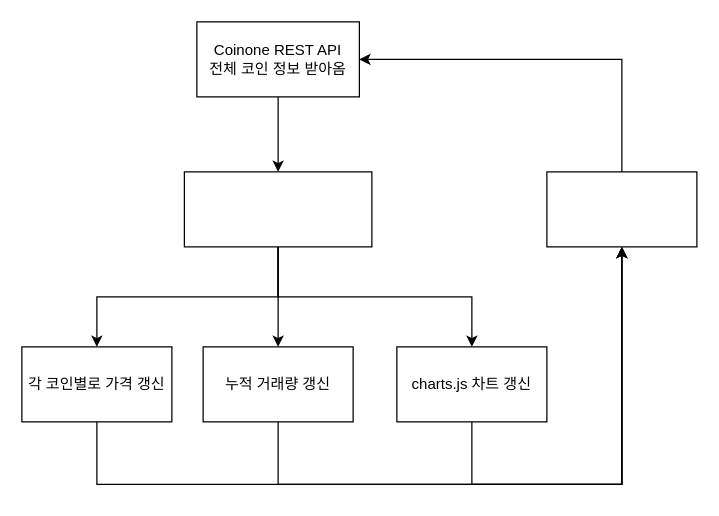
This 719x516 diagram has some shape labels left out. Each missing label, with the box of its shape:
setInterval(): (546, 171, 697, 247)
가져온 데이터중 사용할 코인 데이터만 파싱: (183, 171, 372, 247)
